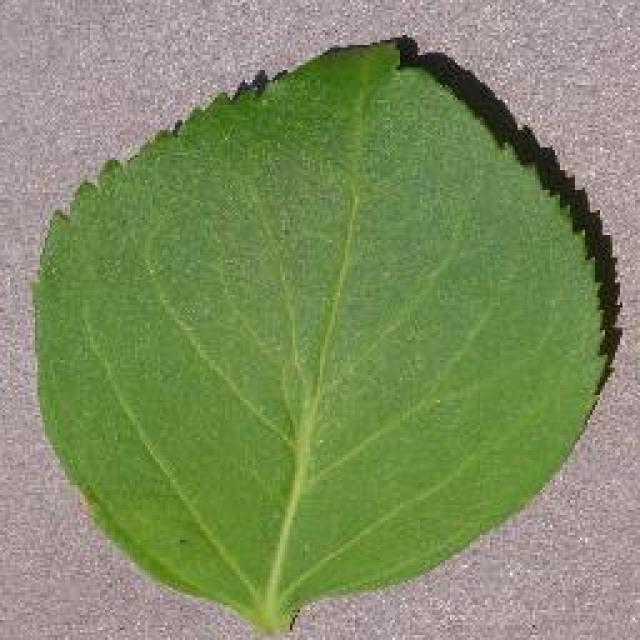Cherry___healthy: (102, 126, 526, 536)
